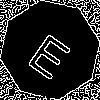E: (25, 25, 79, 81)
